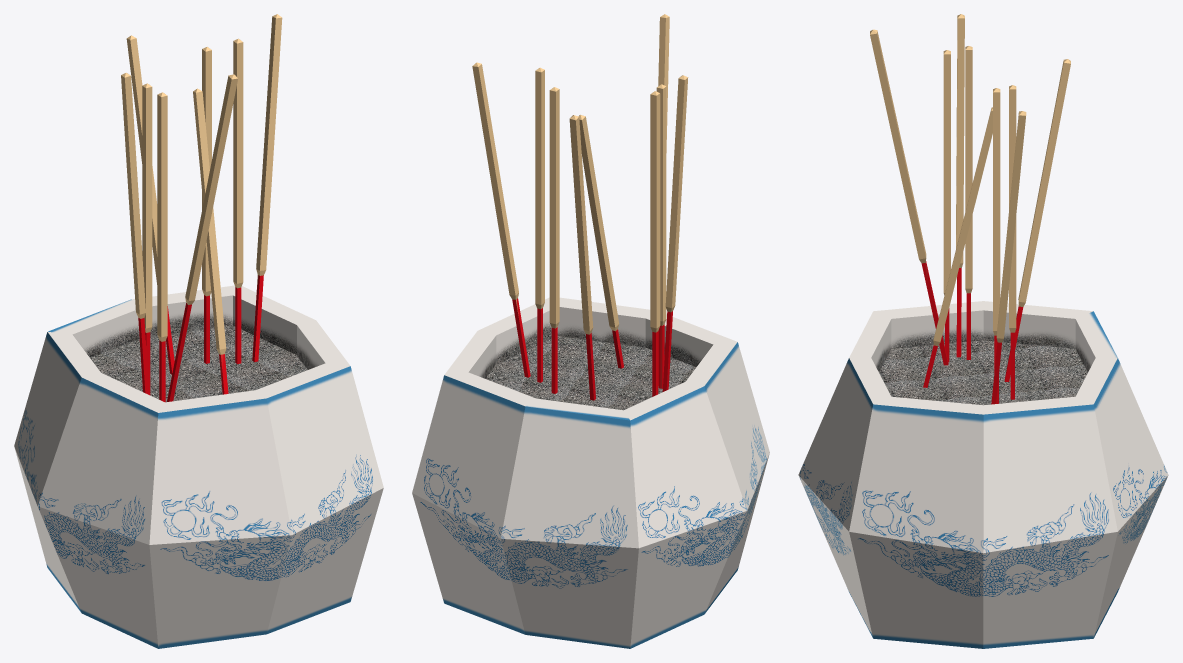
The model's file is insense.fbx.
3 views of the same model, side by side, from view 1: azimuth 30°, elevation 25°; view 2: azimuth 150°, elevation 25°; view 3: azimuth 270°, elevation 25° (orthographic). The views are drawn at different scales.
Visible parts, largest first — view 1: insense container, insenses; view 2: insense container, insenses; view 3: insense container, insenses.
Part boxes in pixels (x1=…): insense container: x1=14, y1=285, x2=383, y2=648; insenses: x1=121, y1=14, x2=282, y2=402; insense container: x1=412, y1=297, x2=769, y2=648; insenses: x1=472, y1=14, x2=688, y2=400; insense container: x1=798, y1=301, x2=1168, y2=648; insenses: x1=870, y1=14, x2=1070, y2=404.
Bounding box in the file's own units: 20.26 × 33.36 × 20.26.
Materials: 2 (2 with a texture image).
